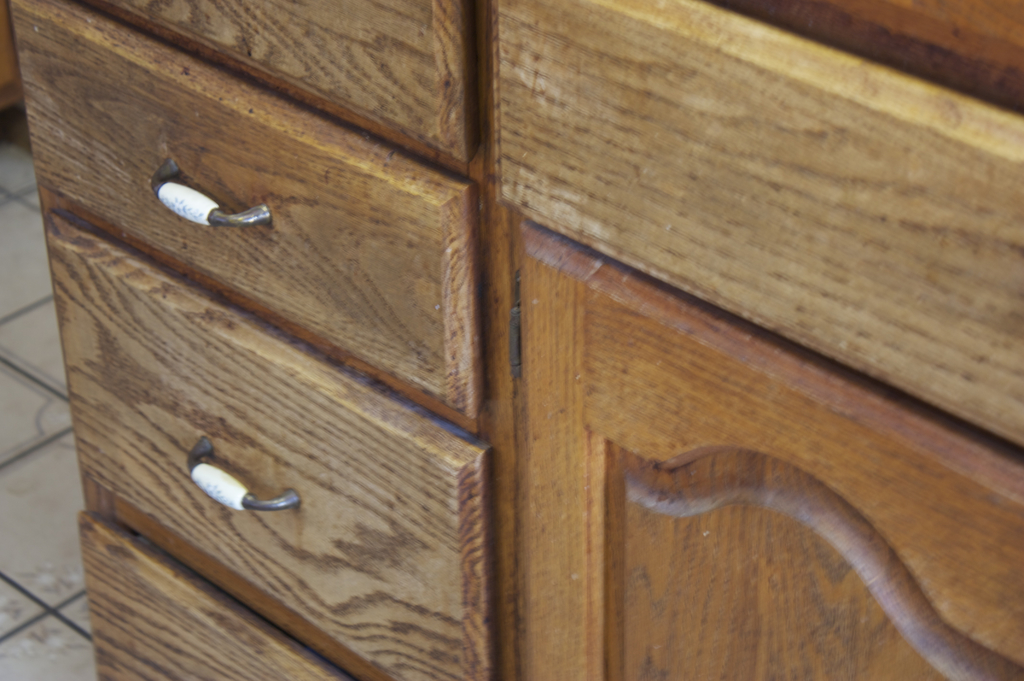cabinet door: (559, 304, 1010, 681), (81, 326, 494, 598), (57, 87, 473, 321)
handle: (188, 429, 294, 531), (143, 160, 270, 241)
